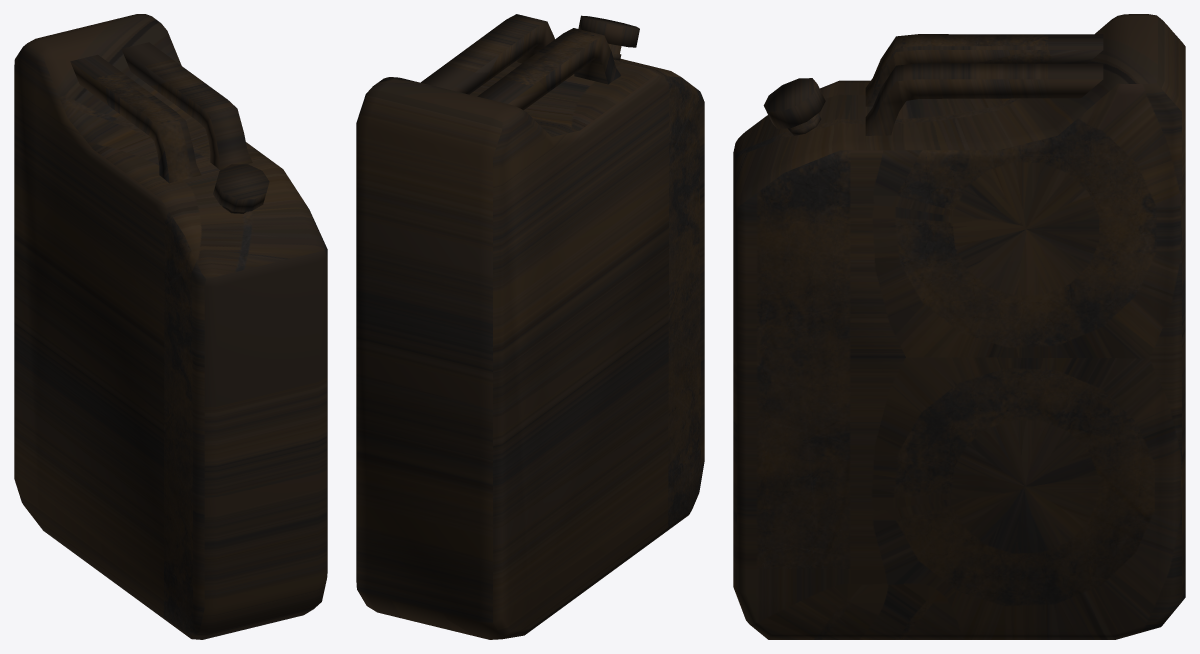
The model's file is канистра.fbx.
3 views of the same model, side by side, from view 1: azimuth 30°, elevation 25°; view 2: azimuth 150°, elevation 25°; view 3: azimuth 270°, elevation 25° (orthographic). The views are drawn at different scales.
Parts seen in each view (by area): view 1: lp 1; view 2: lp 1; view 3: lp 1.
Part boxes in pixels (x1,y1,x2,y2): lp 1: [14, 14, 327, 639]; lp 1: [356, 14, 704, 639]; lp 1: [733, 14, 1185, 639].
Bounding box in the file's own units: 22.02 × 77.16 × 56.18.
